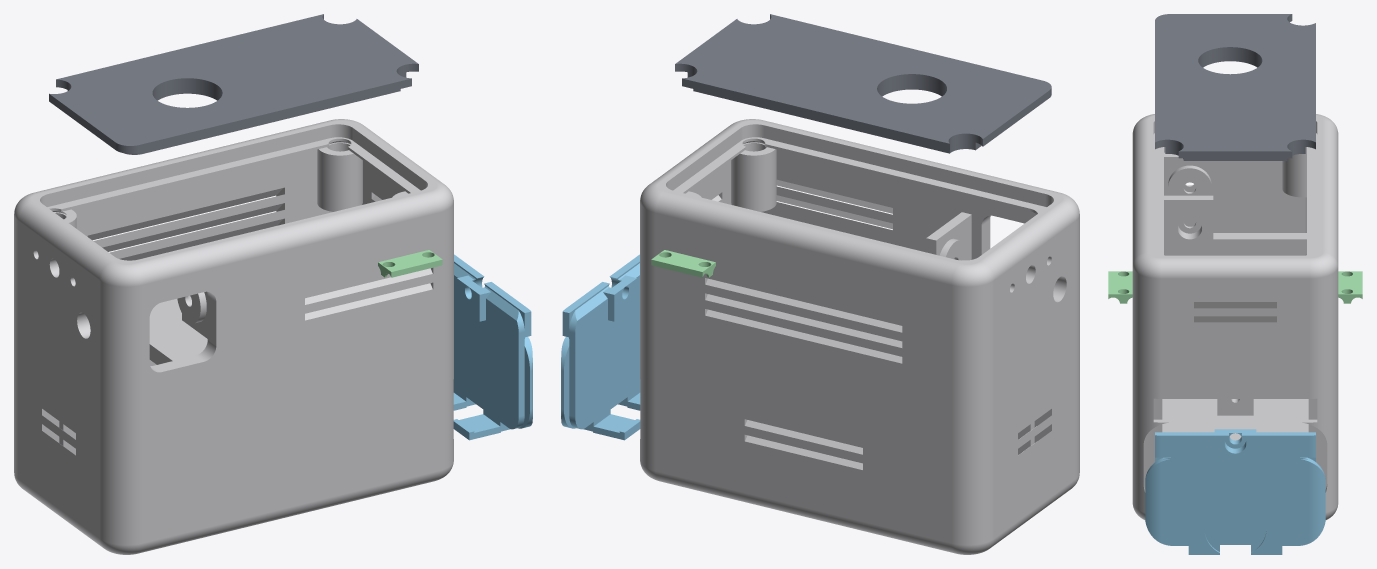
The model's file is anton20_exploded.glb.
3 views of the same model, side by side, from view 1: azimuth 30°, elevation 25°; view 2: azimuth 150°, elevation 25°; view 3: azimuth 270°, elevation 25° (orthographic). The views are drawn at different scales.
Parts seen in each view (by area): view 1: =>[0:1:1:3], =>[0:1:1:5], =>[0:1:1:4], =>[0:1:1:9]; view 2: =>[0:1:1:3], =>[0:1:1:5], =>[0:1:1:4], =>[0:1:1:7]; view 3: =>[0:1:1:3], =>[0:1:1:5], =>[0:1:1:4], =>[0:1:1:7], =>[0:1:1:9].
Part boxes in pixels (box(x1,y1,x2,y2)): =>[0:1:1:3]: box(14, 119, 453, 554); =>[0:1:1:5]: box(49, 14, 418, 154); =>[0:1:1:4]: box(453, 254, 532, 440); =>[0:1:1:9]: box(378, 250, 442, 277); =>[0:1:1:3]: box(640, 119, 1079, 554); =>[0:1:1:5]: box(675, 14, 1051, 153); =>[0:1:1:4]: box(561, 254, 640, 440); =>[0:1:1:7]: box(651, 250, 715, 277); =>[0:1:1:3]: box(1132, 114, 1338, 519); =>[0:1:1:5]: box(1155, 14, 1315, 160); =>[0:1:1:4]: box(1145, 429, 1325, 554); =>[0:1:1:7]: box(1338, 271, 1362, 303); =>[0:1:1:9]: box(1108, 271, 1132, 303).
Size of the model in its own units: 0.087 by 0.078 by 0.0489.
